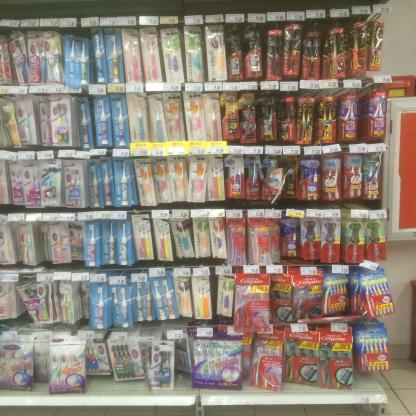Void: (118, 382, 144, 394), (90, 378, 110, 391), (32, 384, 47, 396), (179, 376, 189, 392)
